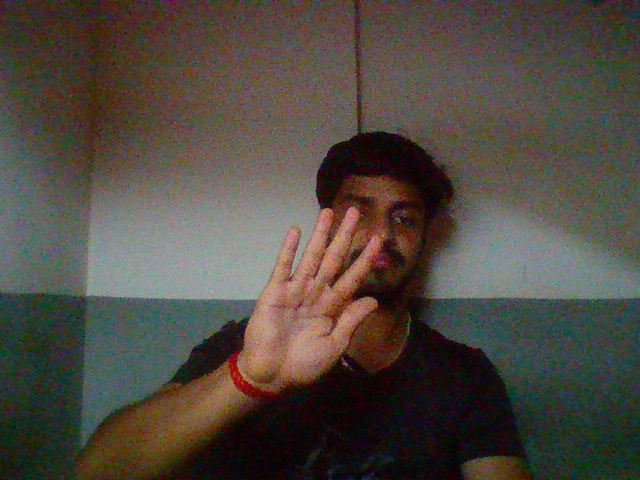Hello: (223, 186, 386, 394)
